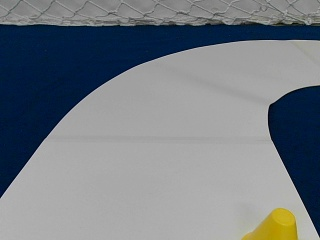cone: (241, 207, 296, 238)
